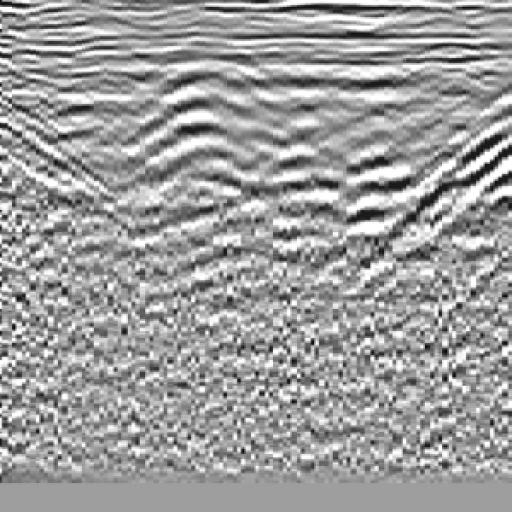metalic: (118, 41, 290, 281)
nonmetalic: (363, 52, 512, 293)
